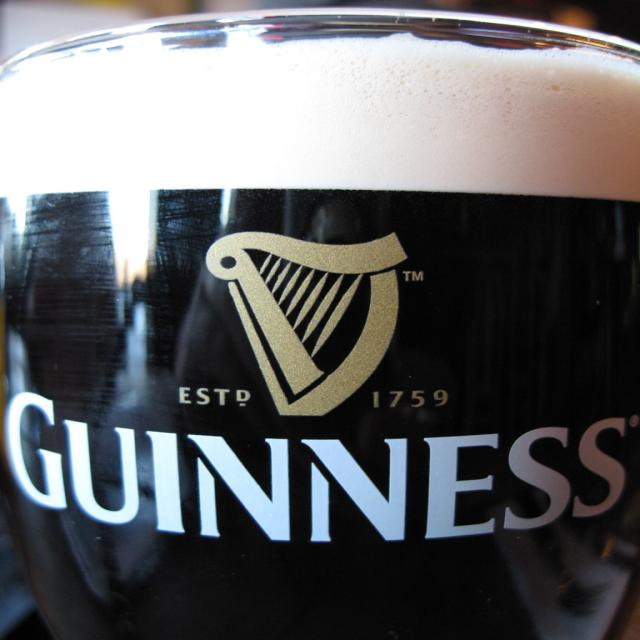guiness: (2, 230, 638, 547)
